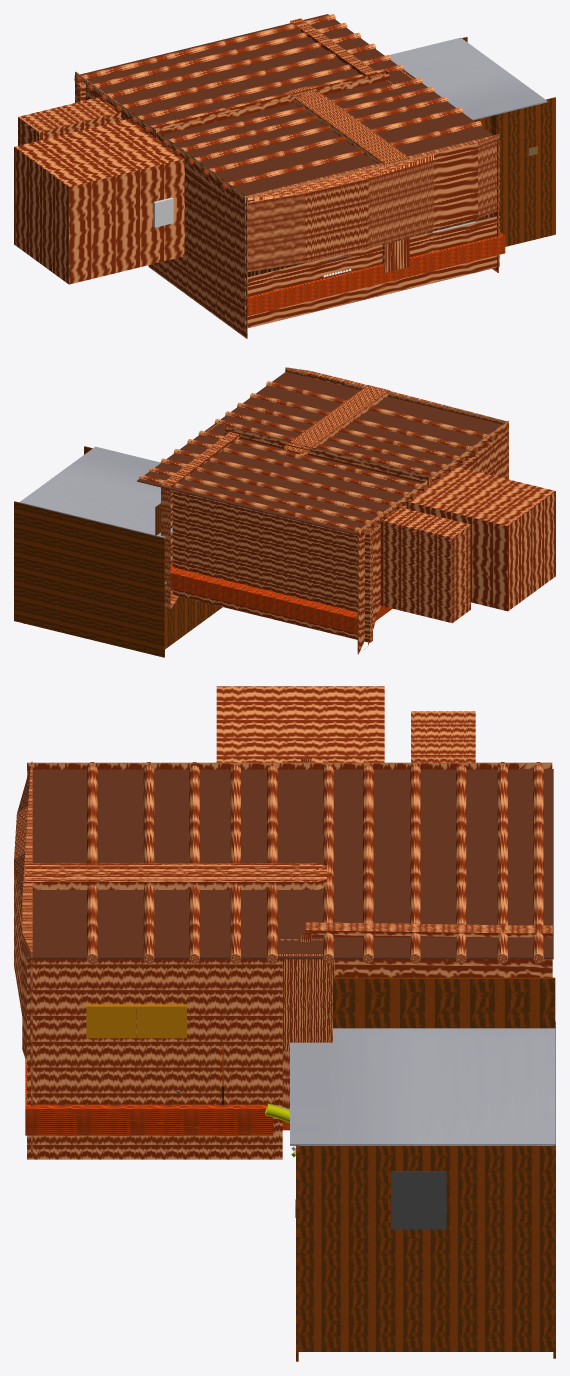
File: HouseInside.fbx
3 views of the same model, one above another, from view 1: azimuth 30°, elevation 25°; view 2: azimuth 150°, elevation 25°; view 3: azimuth 270°, elevation 25° (orthographic). The views are drawn at different scales.
Parts seen in each view (by area): view 1: Cube.006, Cube.030, Cube.036, Cube.125, Cube.019, Cube.017, Cube.028, Cube.035, Cube.120, Cylinder.057, Cylinder.056, Cylinder.047 (+16 smaller); view 2: Cube.030, Cube.020, Cube.082, Cube.036, Cube.035, Cube.017, Cube.028, Cube.081, Cube.125, Cube.018, Cube.123, Cube.006 (+15 smaller); view 3: Cube.030, Cube.021, Cube.029, Cube.017, Cube.036, Cube.018, Cube.083, Cube.081, Cube.109, Cube.120, Cube.006, Cube.035 (+18 smaller).
Boxes of the visible parts, x1=… form: Cube.006: x1=244, y1=134, x2=499, y2=328; Cube.030: x1=74, y1=14, x2=499, y2=201; Cube.036: x1=14, y1=118, x2=184, y2=284; Cube.125: x1=145, y1=123, x2=247, y2=338; Cube.019: x1=473, y1=97, x2=555, y2=246; Cube.017: x1=390, y1=37, x2=547, y2=120; Cube.028: x1=247, y1=241, x2=477, y2=315; Cube.035: x1=18, y1=97, x2=121, y2=145; Cube.120: x1=290, y1=86, x2=405, y2=271; Cylinder.057: x1=74, y1=14, x2=335, y2=83; Cylinder.056: x1=86, y1=22, x2=347, y2=92; Cylinder.047: x1=114, y1=43, x2=375, y2=112; Cube.030: x1=137, y1=371, x2=502, y2=535; Cube.020: x1=14, y1=501, x2=164, y2=657; Cube.082: x1=172, y1=490, x2=372, y2=642; Cube.036: x1=406, y1=466, x2=555, y2=611; Cube.035: x1=380, y1=508, x2=470, y2=623; Cube.017: x1=19, y1=446, x2=172, y2=538; Cube.028: x1=170, y1=562, x2=392, y2=633; Cube.081: x1=161, y1=430, x2=240, y2=609; Cube.125: x1=419, y1=420, x2=508, y2=490; Cube.018: x1=155, y1=503, x2=222, y2=649; Cube.123: x1=357, y1=531, x2=380, y2=654; Cube.006: x1=285, y1=367, x2=508, y2=479; Cube.030: x1=28, y1=769, x2=553, y2=959; Cube.021: x1=298, y1=1146, x2=553, y2=1351; Cube.029: x1=27, y1=957, x2=282, y2=1159; Cube.017: x1=290, y1=1021, x2=555, y2=1145; Cube.036: x1=216, y1=686, x2=384, y2=762; Cube.018: x1=333, y1=977, x2=555, y2=1028; Cube.083: x1=25, y1=1088, x2=273, y2=1135; Cube.081: x1=305, y1=922, x2=552, y2=977; Cube.109: x1=277, y1=954, x2=332, y2=1109; Cube.120: x1=24, y1=866, x2=326, y2=879; Cube.006: x1=14, y1=761, x2=32, y2=1153; Cube.035: x1=411, y1=711, x2=475, y2=762.
Size of the model in its own units: 13845 by 5178 by 8287.
